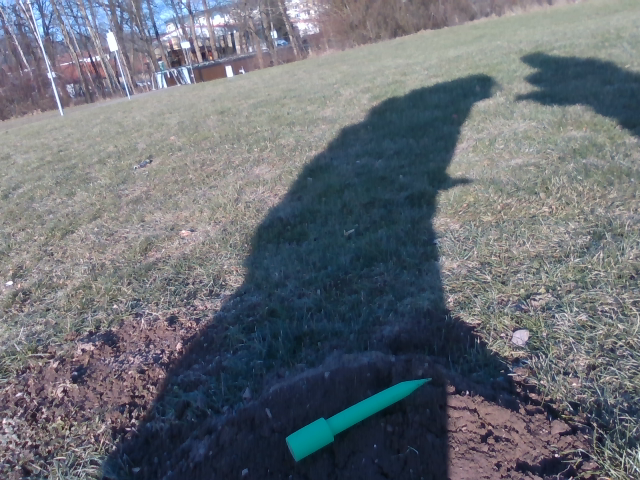Probe: (285, 371, 440, 463)
